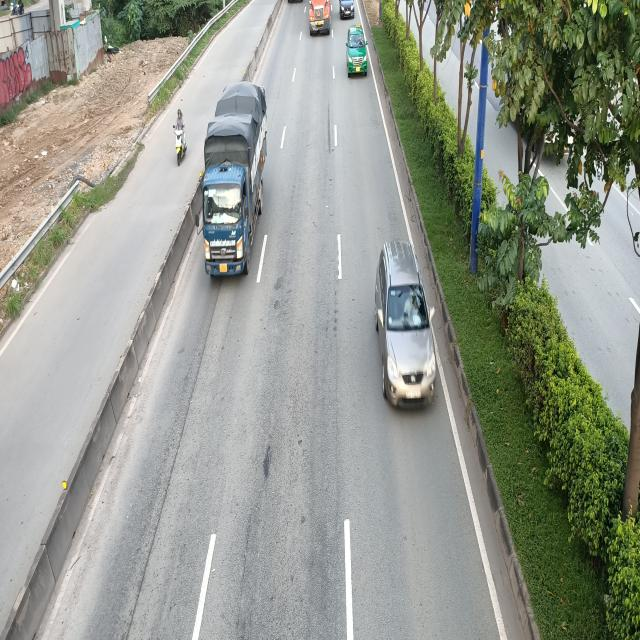car: (375, 245, 437, 409), (345, 23, 368, 76)
container: (307, 0, 333, 37)
truck: (194, 81, 266, 279)
